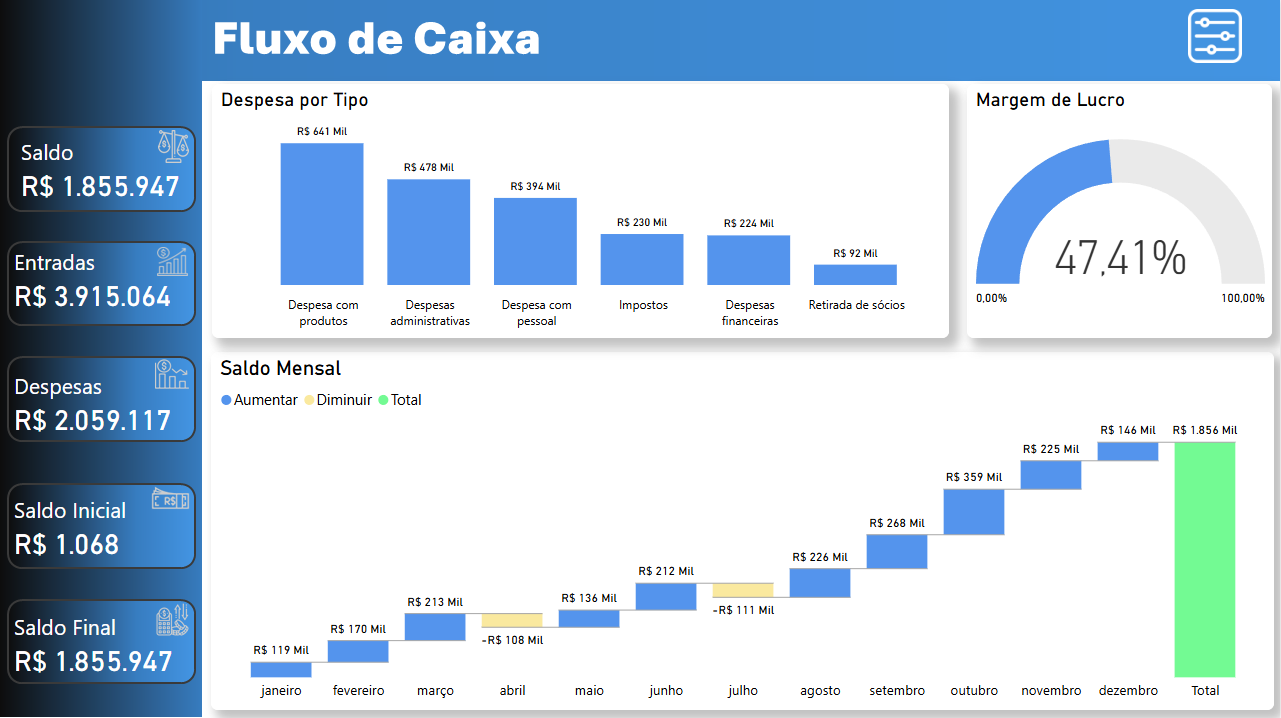

This screenshot's page, from the dashboard's own definition file:
{"tool":"powerbi","page":{"name":"Fluxo de Caixa","canvas":[1280,720],"ordinal":0},"visuals":[{"type":"multiRowCard","title":"Saldo","fields":{"Values":["Movimentações.Saldo"]},"box":[15.7,138,188.2,95.7],"z":0},{"type":"multiRowCard","title":"Entradas","fields":{"Values":["Movimentações.Entradas"]},"box":[9.4,247.8,203.9,94.1],"z":1000},{"type":"multiRowCard","title":"Despesas","fields":{"Values":["Movimentações.Saídas"]},"box":[9.4,371.8,203.9,105.1],"z":2000},{"type":"waterfallChart","title":"Saldo Mensal","fields":{"Category":["Calendario.Nome do Mes"],"Y":["Movimentações.Saldo"]},"box":[211,352.5,1062.9,358.7],"z":3000},{"type":"multiRowCard","title":"Saldo Inicial","fields":{"Values":["Movimentações.Saldo Inicial Período"]},"box":[9.4,495.7,203.9,95.7],"z":4000},{"type":"multiRowCard","title":"Saldo Final","fields":{"Values":["Movimentações.Saldo Final Período"]},"box":[9.4,613.3,194.5,97.3],"z":5000},{"type":"columnChart","title":"Despesa por Tipo","fields":{"Y":["Movimentações.Saídas"],"Category":["Movimentações.Classificação"]},"box":[211.8,84.7,737.3,254.1],"z":6000},{"type":"gauge","fields":{"Y":["Movimentações.Margem de Lucro"]},"box":[967,85.3,305.1,254.1],"z":7000},{"type":"image","box":[1182.7,0,64.3,73.7],"z":8000}]}

Visuals, with their boxes in screenshot pixels (x1, y1, x2, y2), scaled from the page's 1280x720 canvas onto the 1281x718 screenshot:
"Saldo" multiRowCard: pyautogui.locateOnScreen(16, 138, 204, 233)
"Entradas" multiRowCard: pyautogui.locateOnScreen(9, 247, 213, 341)
"Despesas" multiRowCard: pyautogui.locateOnScreen(9, 371, 213, 476)
"Saldo Mensal" waterfallChart: pyautogui.locateOnScreen(211, 352, 1275, 709)
"Saldo Inicial" multiRowCard: pyautogui.locateOnScreen(9, 494, 213, 590)
"Saldo Final" multiRowCard: pyautogui.locateOnScreen(9, 612, 204, 709)
"Despesa por Tipo" columnChart: pyautogui.locateOnScreen(212, 84, 950, 338)
gauge - Movimentações.Margem de Lucro: pyautogui.locateOnScreen(968, 85, 1273, 338)
image: pyautogui.locateOnScreen(1184, 0, 1248, 73)
